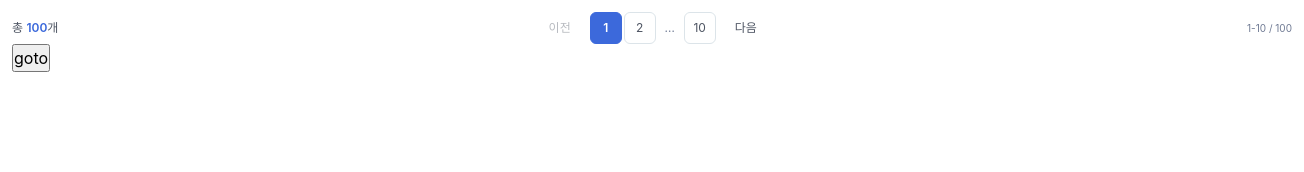
UiPagination › modelValue 외부 변경 시 aria-current=page 동기화
The image size is (1304, 172).
Expected: the button "1" is shown, x1=590 y1=12 x2=622 y2=44
Click the button with id "goto5" at (31, 58), box x1=12 y1=44 x2=50 y2=72
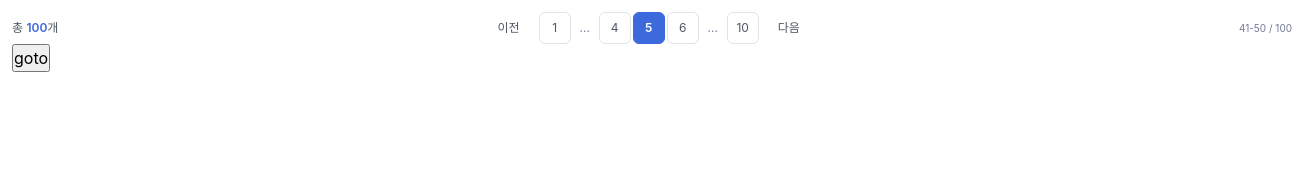
Expected: the button "5" is shown, x1=633 y1=12 x2=665 y2=44
